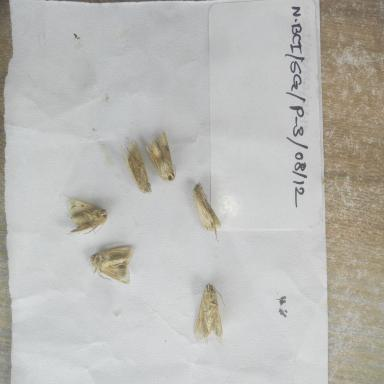abw: (192, 274, 231, 343), (84, 240, 136, 288), (188, 180, 224, 246), (119, 134, 156, 198), (60, 196, 112, 238), (140, 130, 180, 184)
